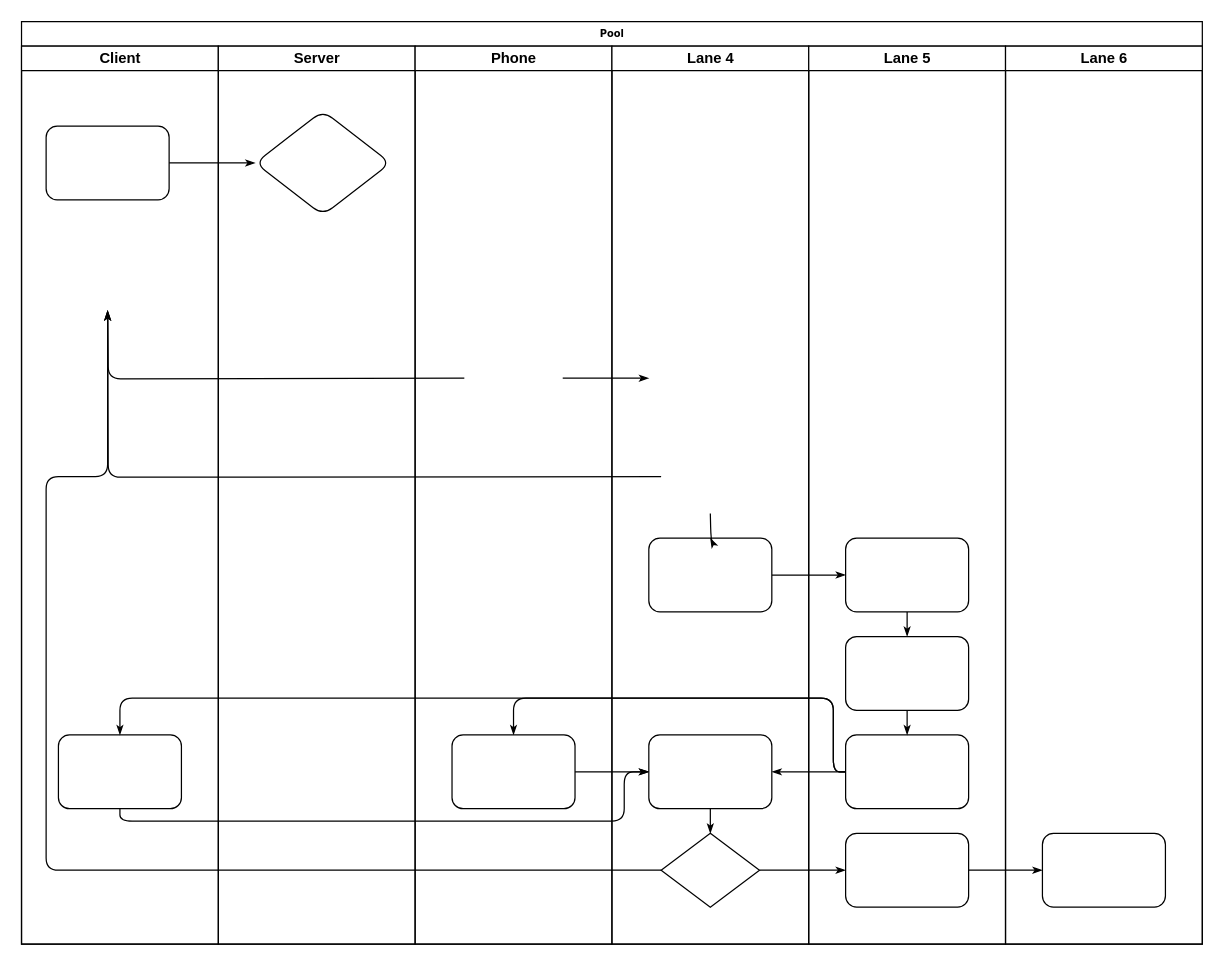
This 1224x966 diagram has some shape labels left out. Each missing label, with the centre of its shape:
"主动推送给手机" belongs at (107,162).
"消息要发送到手机端" belongs at (322,162).
